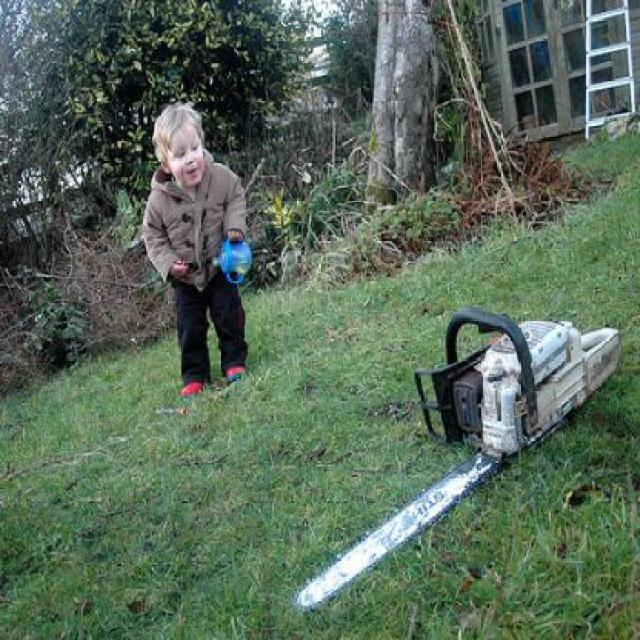Chainsaw: (288, 300, 622, 622)
